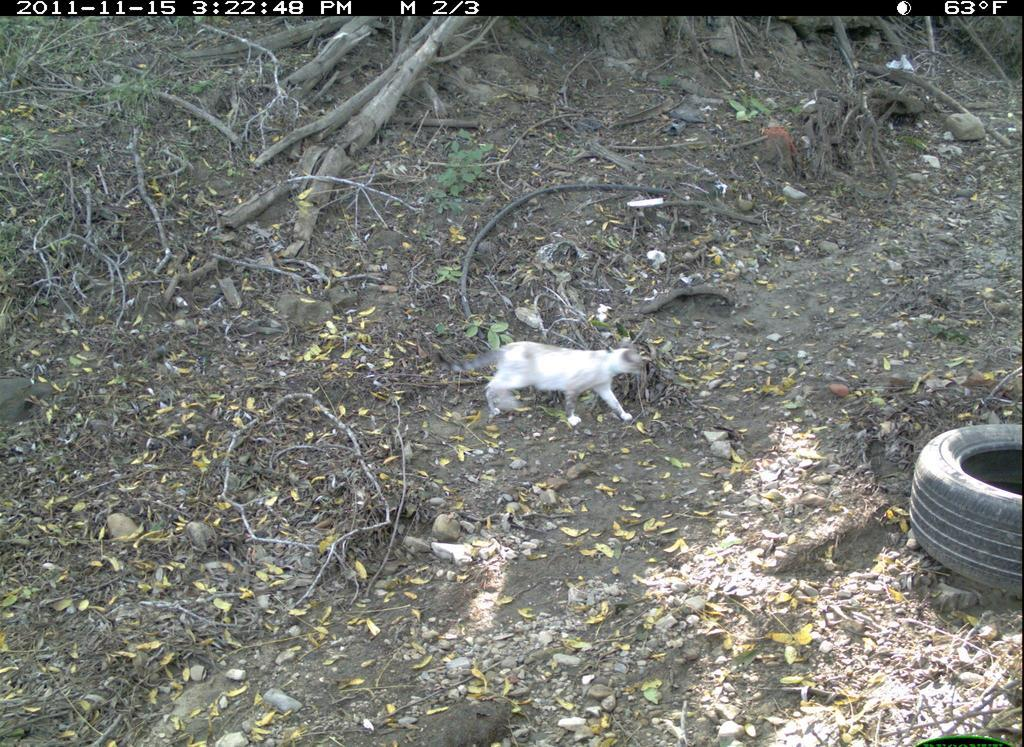cat: (432, 332, 648, 438)
